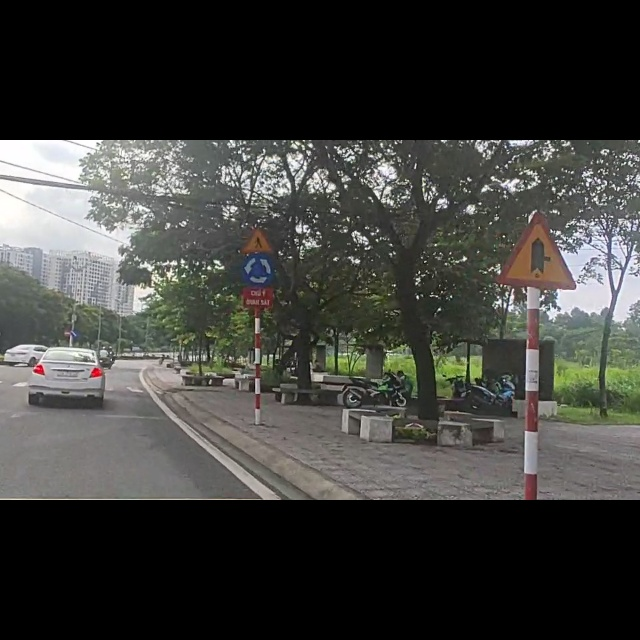bien_hieu_lenh: (495, 122, 582, 281), (241, 204, 279, 257), (241, 152, 277, 201), (71, 337, 80, 352), (63, 334, 71, 350)
